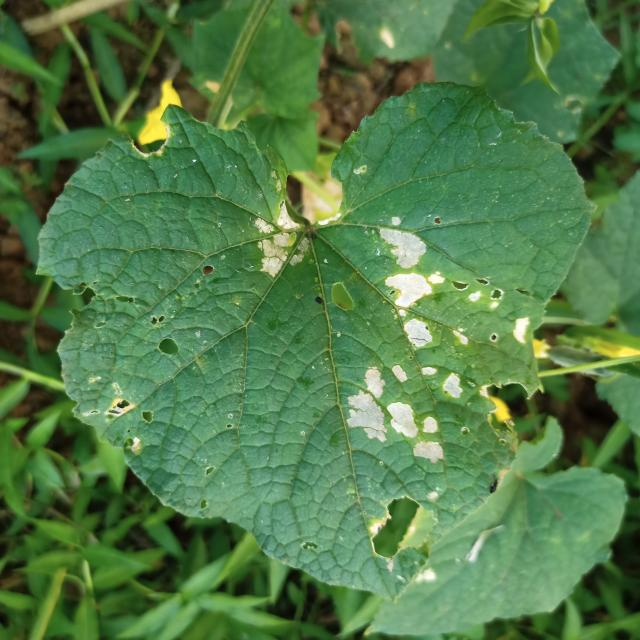disease_cucumber: (371, 210, 537, 357), (333, 363, 472, 473), (240, 192, 314, 280)
